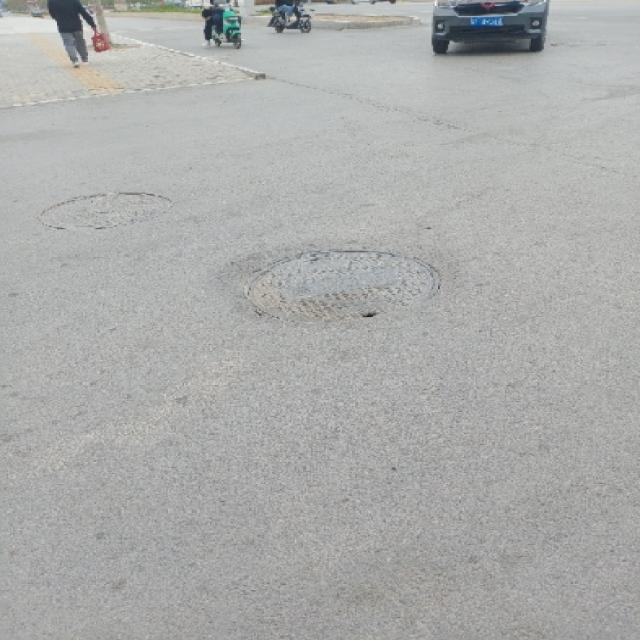Good: (237, 245, 455, 326), (31, 183, 192, 234)
